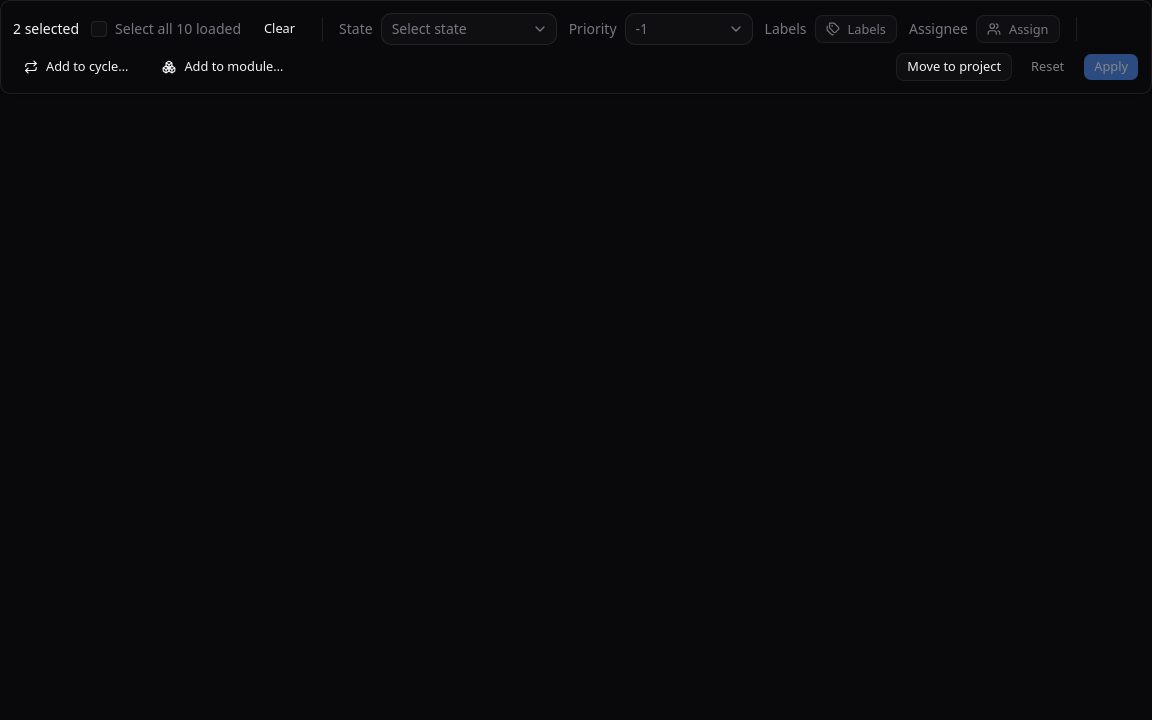
Test case: BulkActionBar organize actions › shows the empty text when there are no addable cycles
Click the button "Add to cycle…" at (76, 67), box [13,53,139,81]
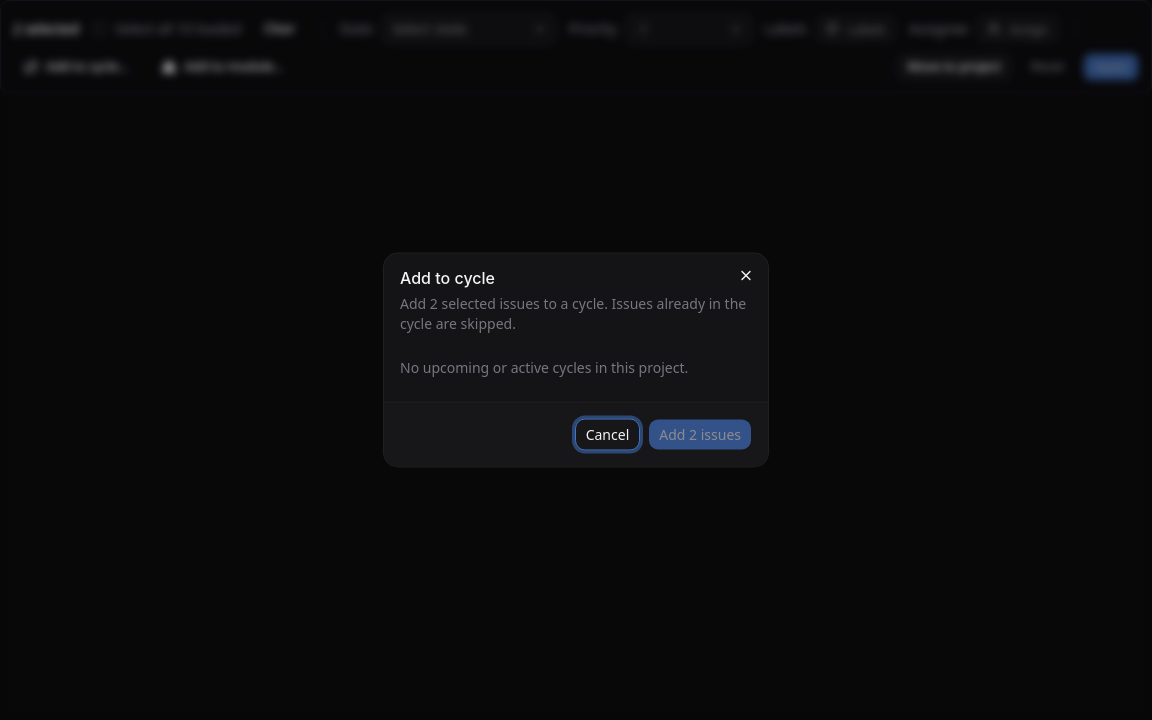
Expected: the text "No upcoming or active cycles in this project." is shown, [400,358,688,376]
